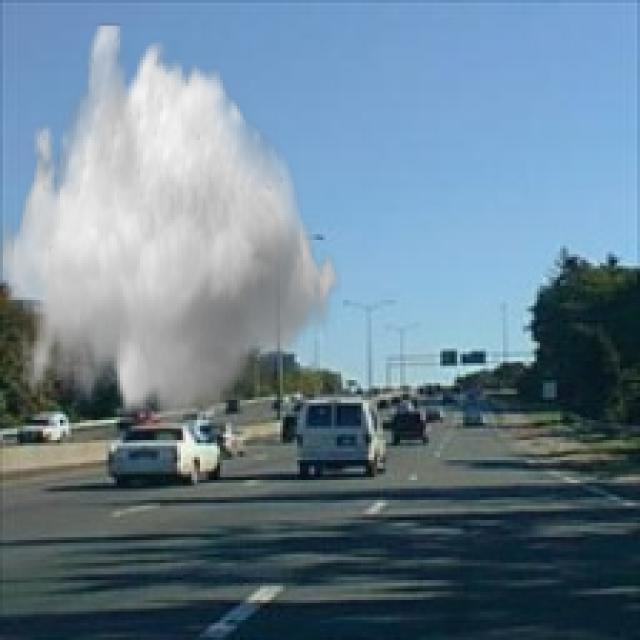smoke: (0, 23, 346, 431)
